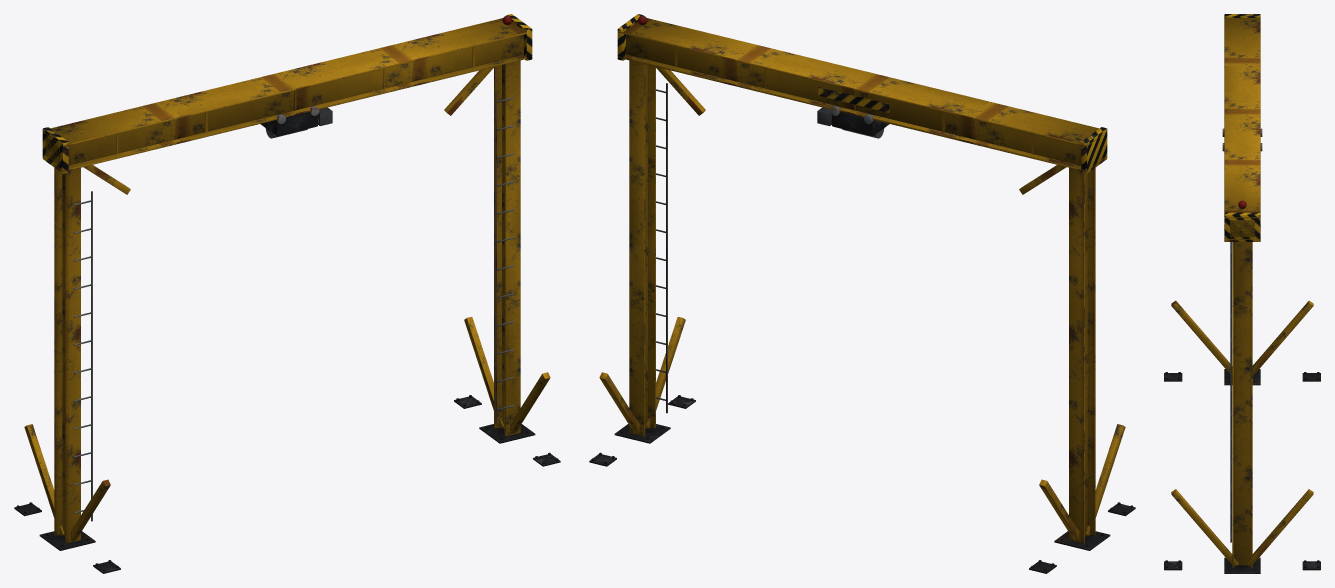
File: crane_frame.gltf
3 views of the same model, side by side, from view 1: azimuth 30°, elevation 25°; view 2: azimuth 150°, elevation 25°; view 3: azimuth 270°, elevation 25° (orthographic). The views are drawn at different scales.
Parts seen in each view (by area): view 1: crane_frame; view 2: crane_frame; view 3: crane_frame.
Part boxes in pixels (x1=…): crane_frame: x1=14, y1=14, x2=560, y2=573; crane_frame: x1=589, y1=14, x2=1135, y2=573; crane_frame: x1=1164, y1=14, x2=1320, y2=573.
Size of the model in its own units: 8 by 6.69 by 2.6.
Materials: 6 (6 with a texture image).
